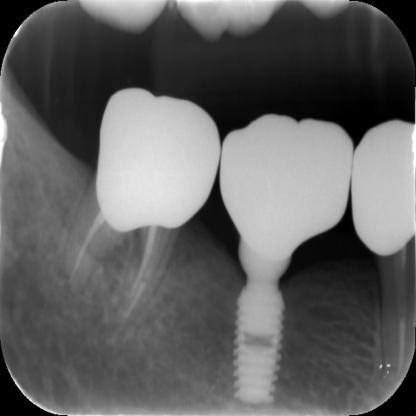Bicon: (219, 257, 305, 407)
